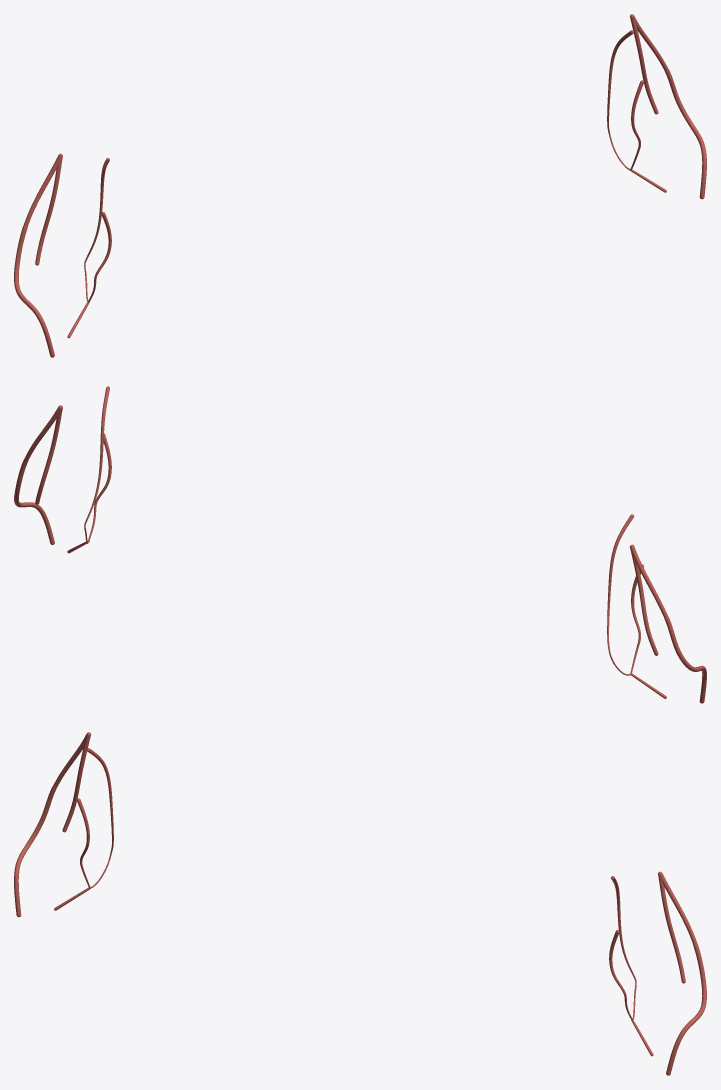
The model's file is elbow-arteries.glb.
The picture shows the model from 3 angles, top to bottom: view 1: azimuth 30°, elevation 25°; view 2: azimuth 150°, elevation 25°; view 3: azimuth 330°, elevation 25°; orthographic projection.
Parts seen in each view (by area): view 1: FMA22764, FMA22766; view 2: FMA22766, FMA22764; view 3: FMA22766, FMA22764.
Part boxes in pixels (<box>): FMA22764: <box>14,225,54,357</box>; FMA22766: <box>664,69,706,199</box>; FMA22766: <box>14,460,54,544</box>; FMA22764: <box>664,617,706,703</box>; FMA22766: <box>666,943,706,1075</box>; FMA22764: <box>14,787,56,917</box>.
Bounding box in the file's own units: 4.86 × 1.22 × 0.425.
